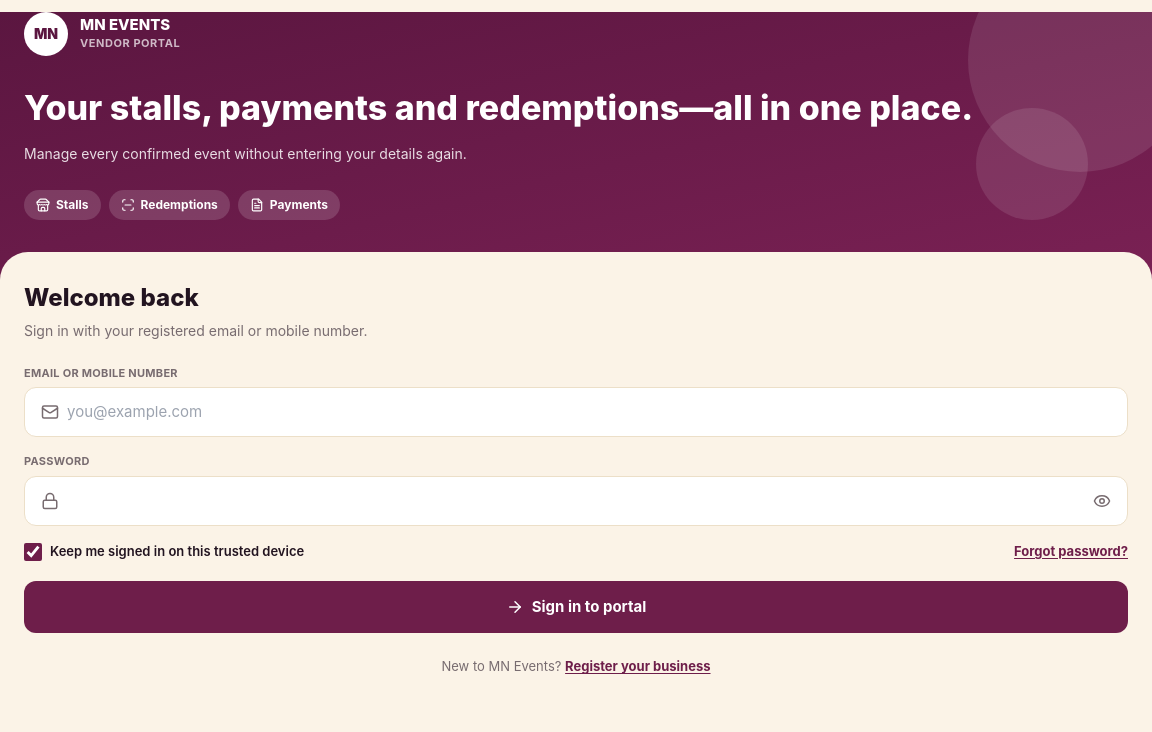
it: Login › shows a generic error on failed sign-in without leaking the underlying reason
Type "vendor@example.com" into the field with placeholder "you@example.com" at point(589, 412), box [67,388,1111,436]
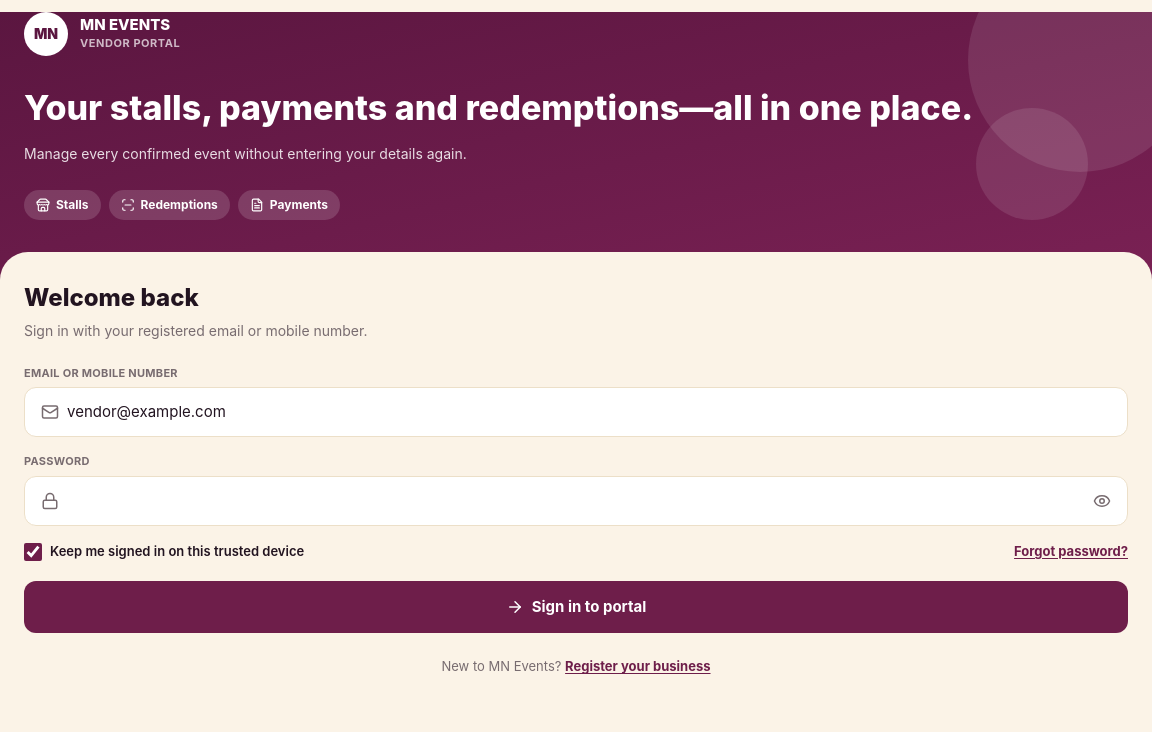
Type "wrong-password" into the password field at point(576, 501), box [67,477,1085,525]
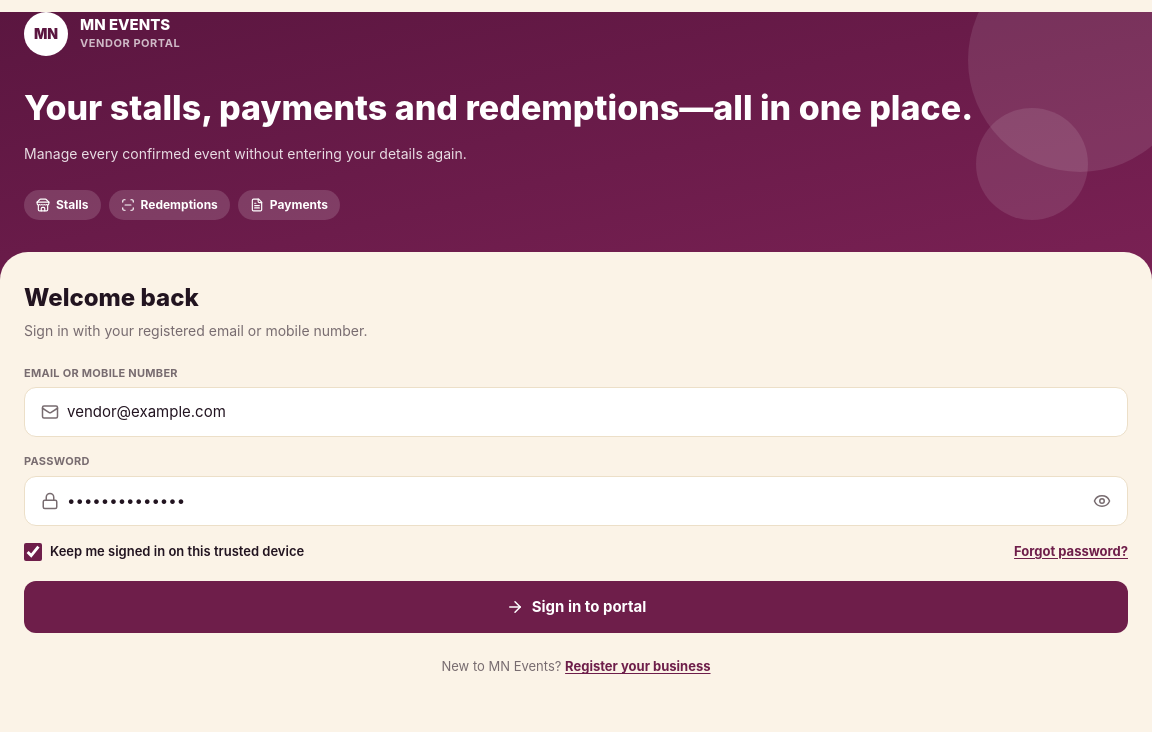
Click the button "Sign in to portal" at point(576, 607), box [24,581,1128,633]
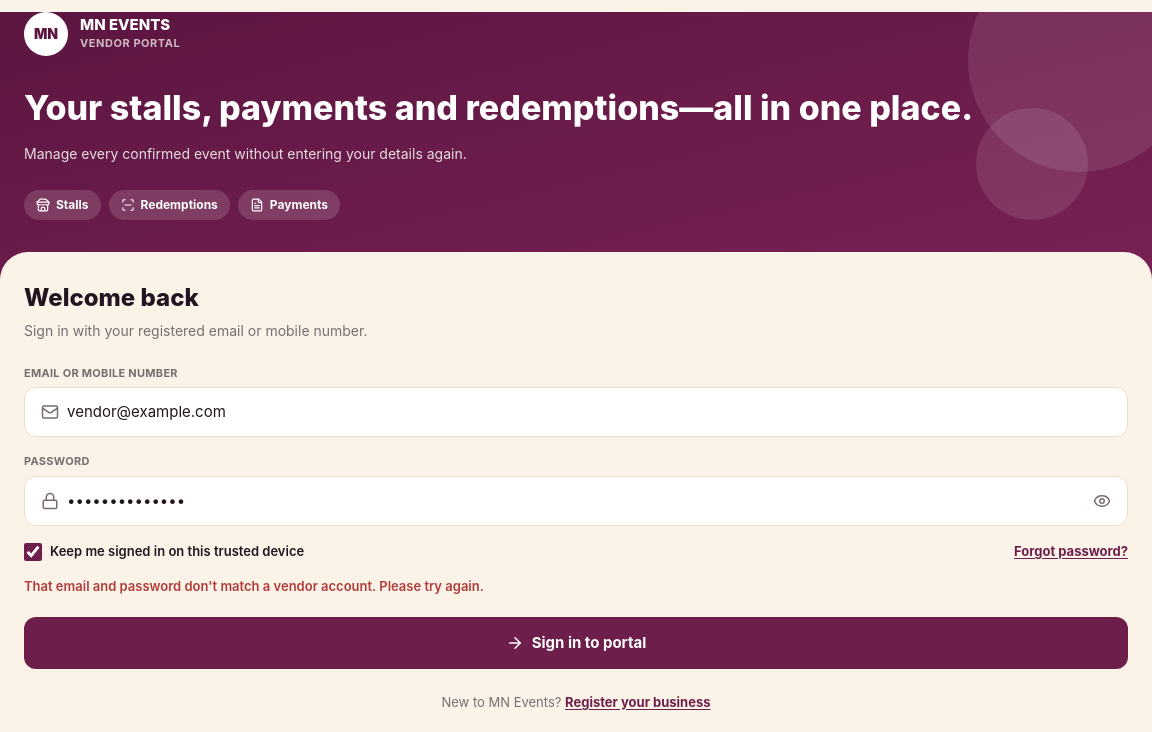
Expected: the text "That email and password don't match a vendor account. Please try again." is shown, [24,578,484,594]
